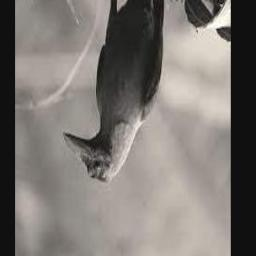Crow: (62, 0, 165, 184)
